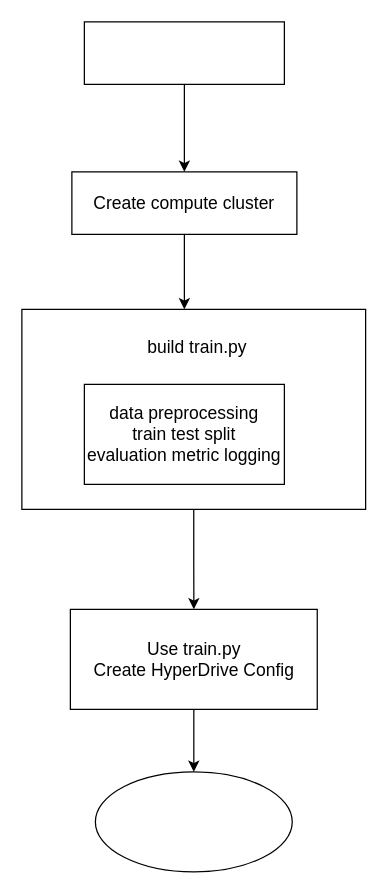
Image size: 388x894. Some labels were removed from this diagram. The shapes that lost their labels are listed below. From the top down, each one's centre as x and y in pixels, then its label:
[183,52]: create experiment
[193,821]: Submit for execution
